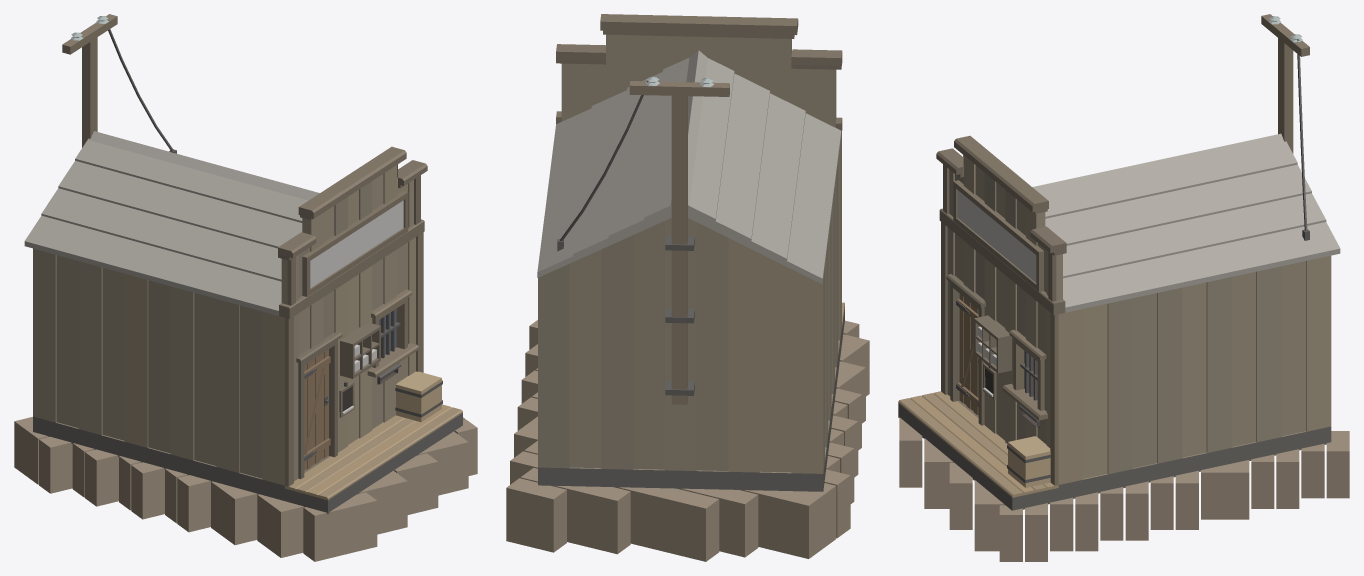
Rendered from house_7.glb.
3 views of the same model, side by side, from view 1: azimuth 30°, elevation 25°; view 2: azimuth 150°, elevation 25°; view 3: azimuth 270°, elevation 25° (orthographic). The views are drawn at different scales.
Parts seen in each view (by area): view 1: house_7; view 2: house_7; view 3: house_7.
Boxes of the visible parts, left/top/right/bottom form: house_7: left=14, top=14, right=477, bottom=561; house_7: left=506, top=14, right=869, bottom=561; house_7: left=898, top=14, right=1349, bottom=561.
Size of the model in its own units: 7.98 by 9.09 by 8.98.
